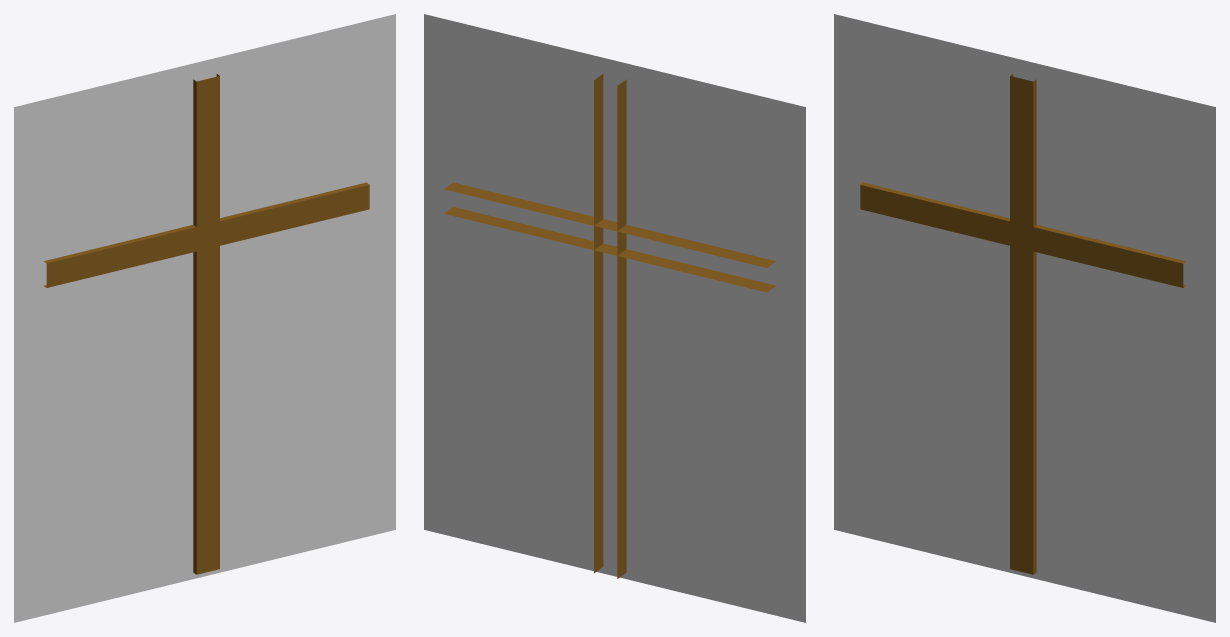
The model's file is glass.fbx.
3 renders of one model, left to right at view 1: azimuth 30°, elevation 25°; view 2: azimuth 150°, elevation 25°; view 3: azimuth 330°, elevation 25°, orthographic.
Visible parts, largest first — view 1: Plane.001, Cube.006; view 2: Plane.001, Cube.006; view 3: Plane.001, Cube.006.
Boxes of the visible parts, <box> form: Plane.001: <box>14,14,395,622</box>; Cube.006: <box>44,74,369,574</box>; Plane.001: <box>424,14,805,622</box>; Cube.006: <box>444,74,775,578</box>; Plane.001: <box>834,14,1215,622</box>; Cube.006: <box>860,74,1185,574</box>.
Bounding box in the file's own units: 96.39 × 124 × 5.52.
